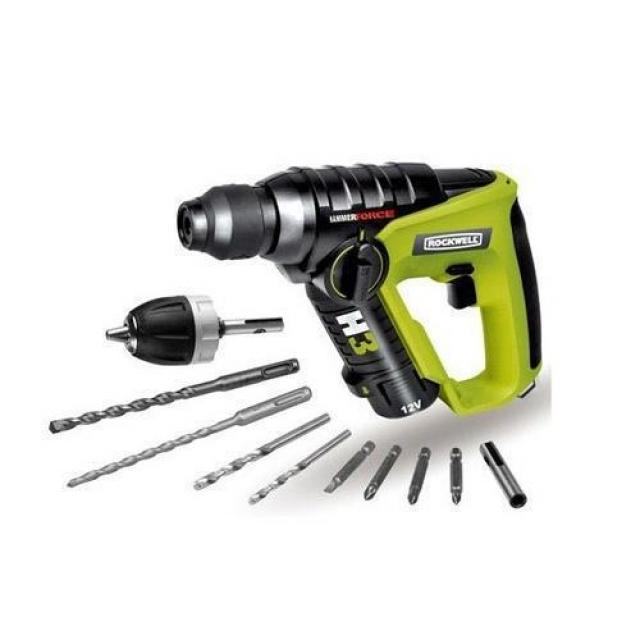drill: (176, 160, 544, 420), (106, 296, 284, 368)
